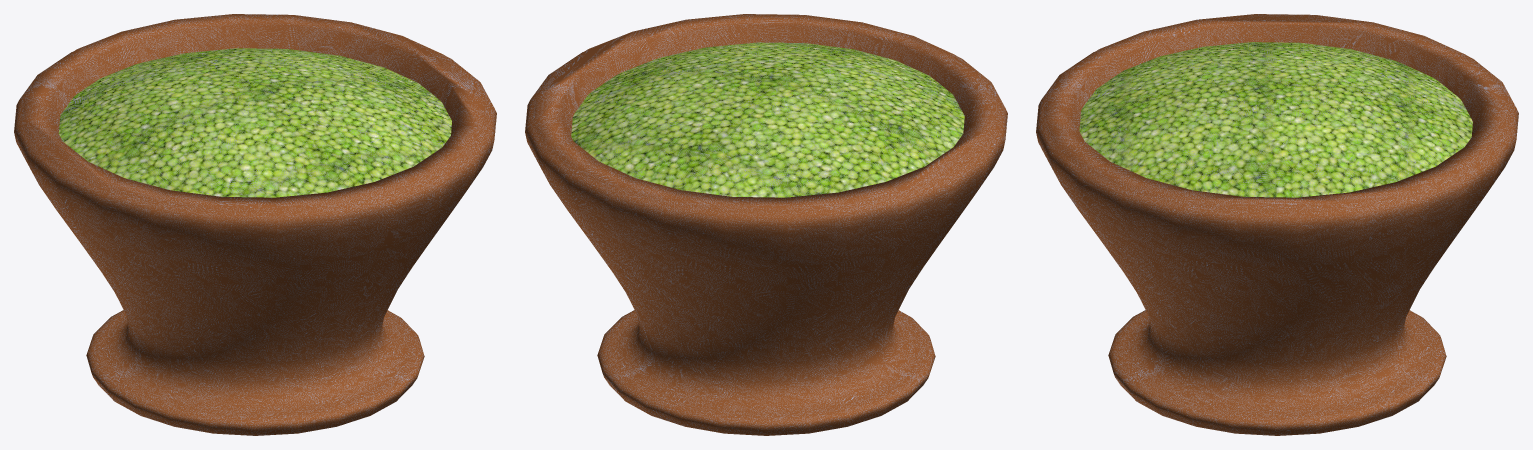
The model's file is ACC_FOOD_009.fbx.
3 views of the same model, side by side, from view 1: azimuth 30°, elevation 25°; view 2: azimuth 150°, elevation 25°; view 3: azimuth 270°, elevation 25° (orthographic).
Parts seen in each view (by area): view 1: Group2, Group3; view 2: Group2, Group3; view 3: Group2, Group3.
Boxes of the visible parts, x1=… form: Group2: x1=14, y1=14, x2=496, y2=435; Group3: x1=58, y1=48, x2=451, y2=197; Group2: x1=525, y1=14, x2=1007, y2=435; Group3: x1=571, y1=42, x2=964, y2=197; Group2: x1=1036, y1=14, x2=1518, y2=435; Group3: x1=1079, y1=42, x2=1472, y2=197.
Size of the model in its own units: 9.65 by 6.21 by 9.65.
